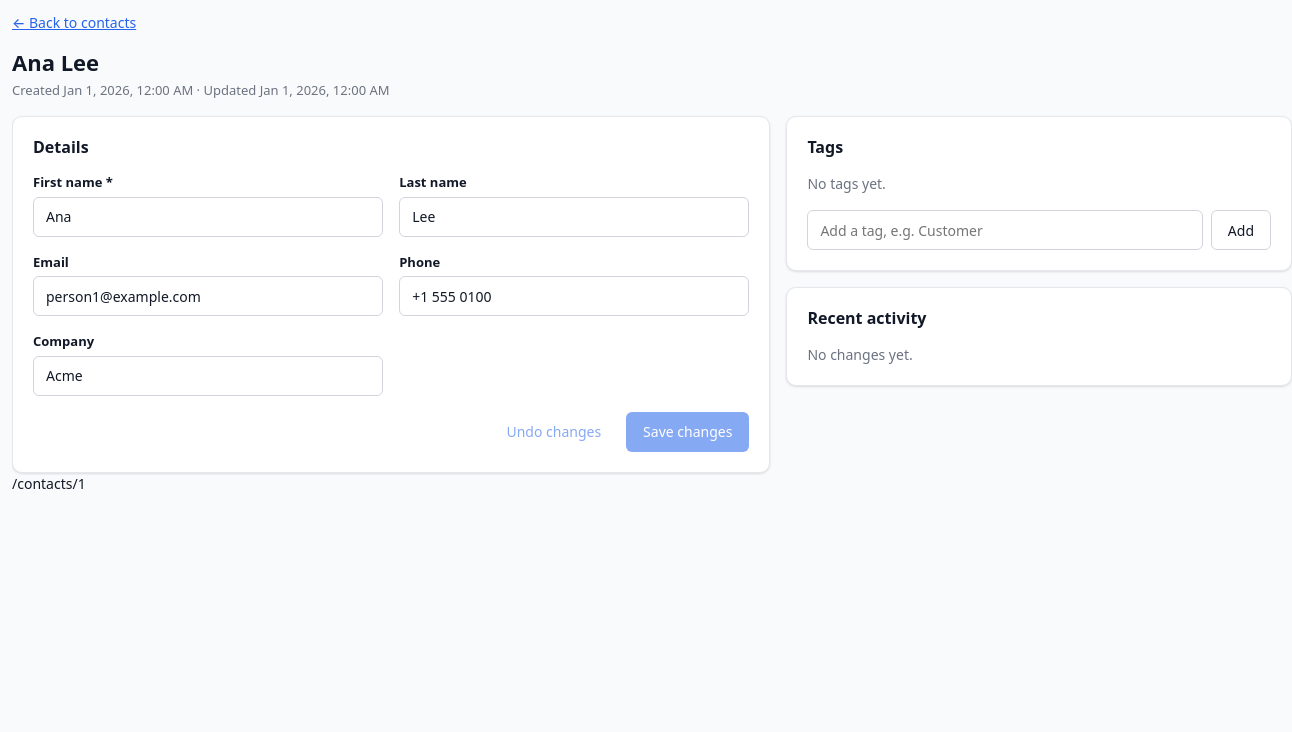
it: ContactDetailPage › validates on the client and shows errors next to the field
Expected: the heading "Ana Lee" is shown, [12, 47, 99, 77]
Replace the text in the field labelled "Email" with "not-an-email": (208, 296) [33, 276, 383, 316]
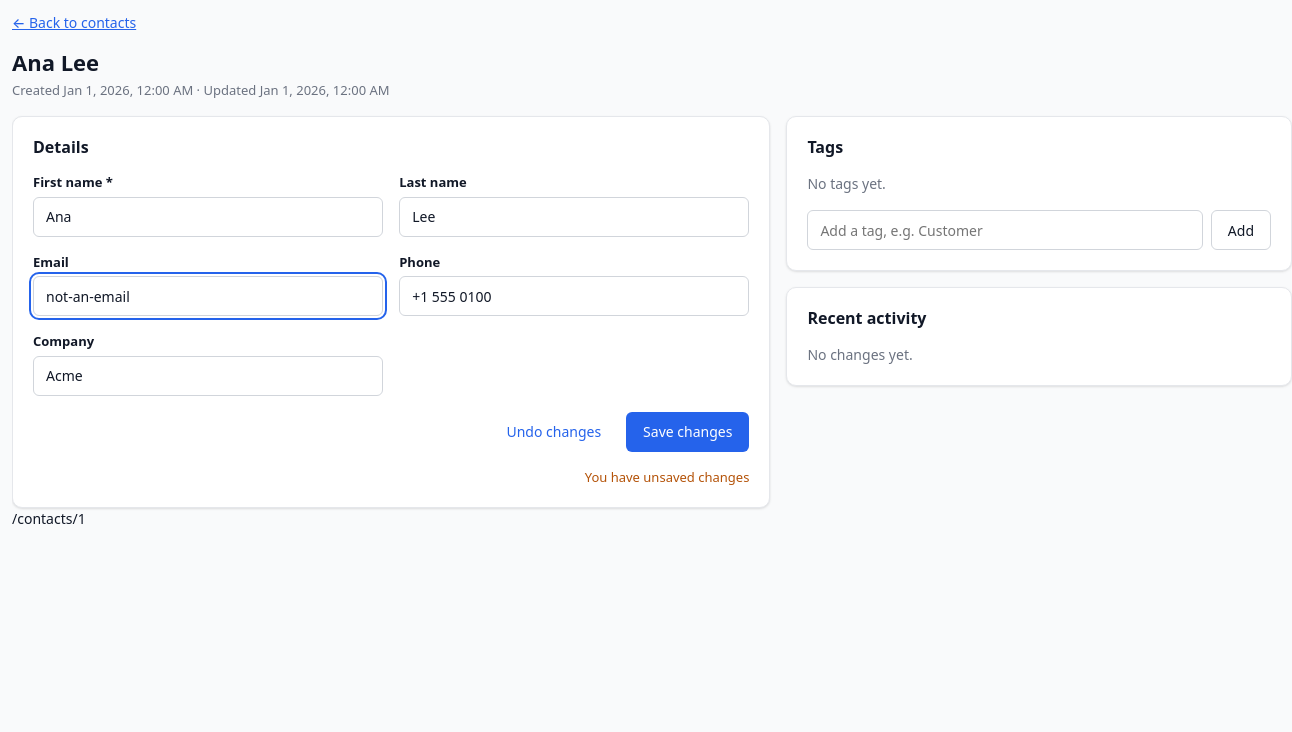
Clear the field labelled "First name *": (208, 216) [33, 196, 383, 236]
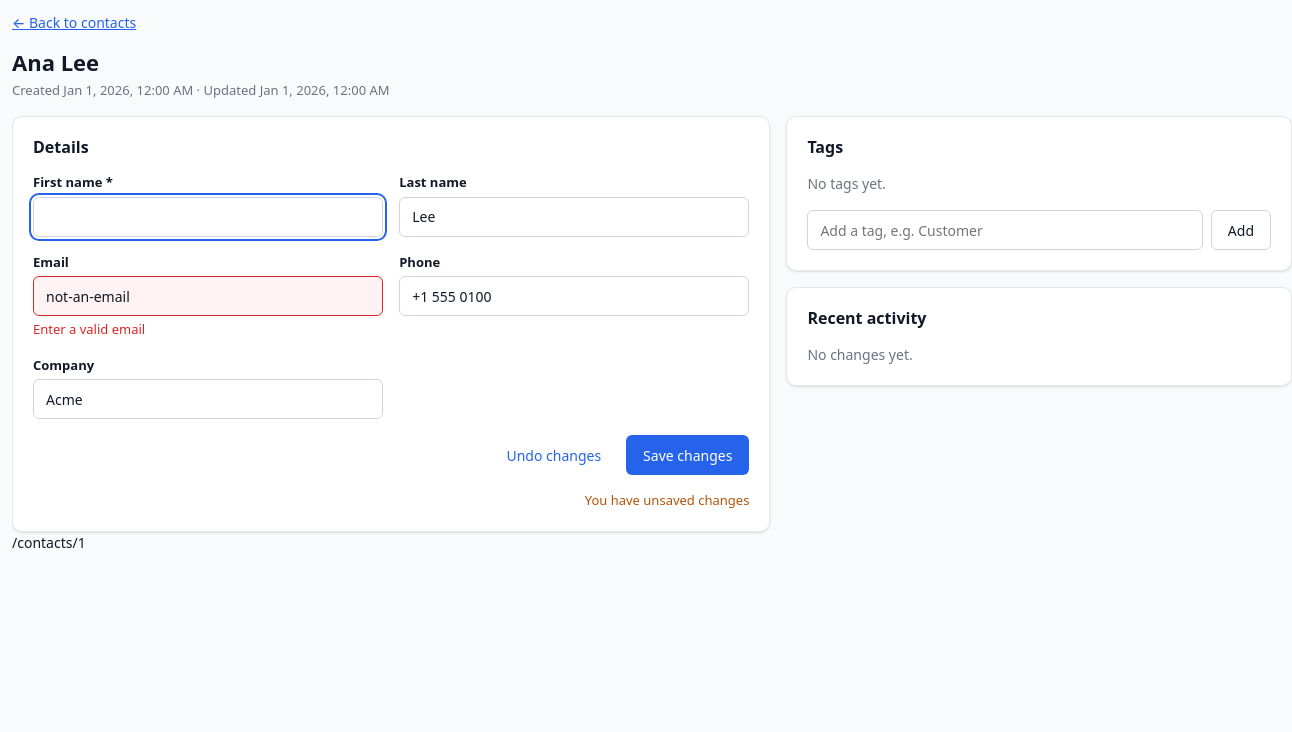
Click the button "Save changes": (688, 455) [626, 435, 749, 475]
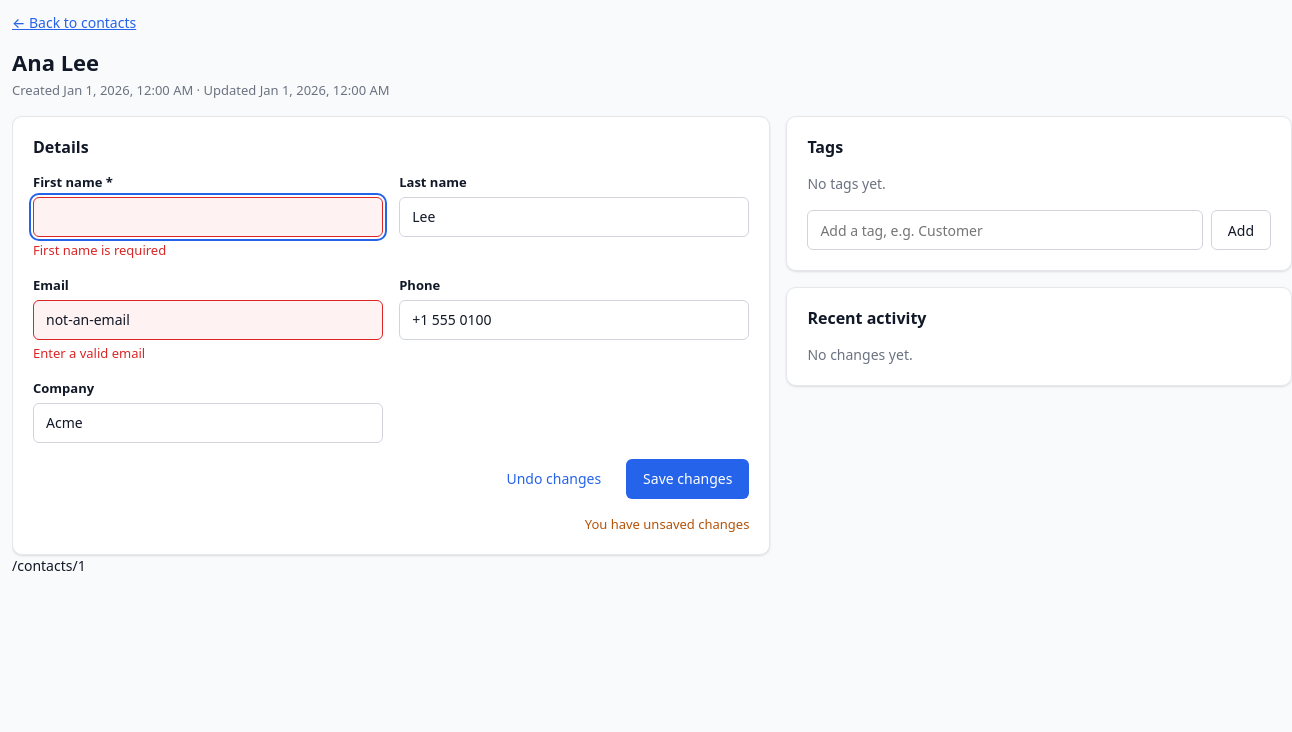
Expected: the text "Enter a valid email" is shown, [33, 344, 145, 362]
Expected: the text "First name is required" is shown, [33, 240, 166, 258]
